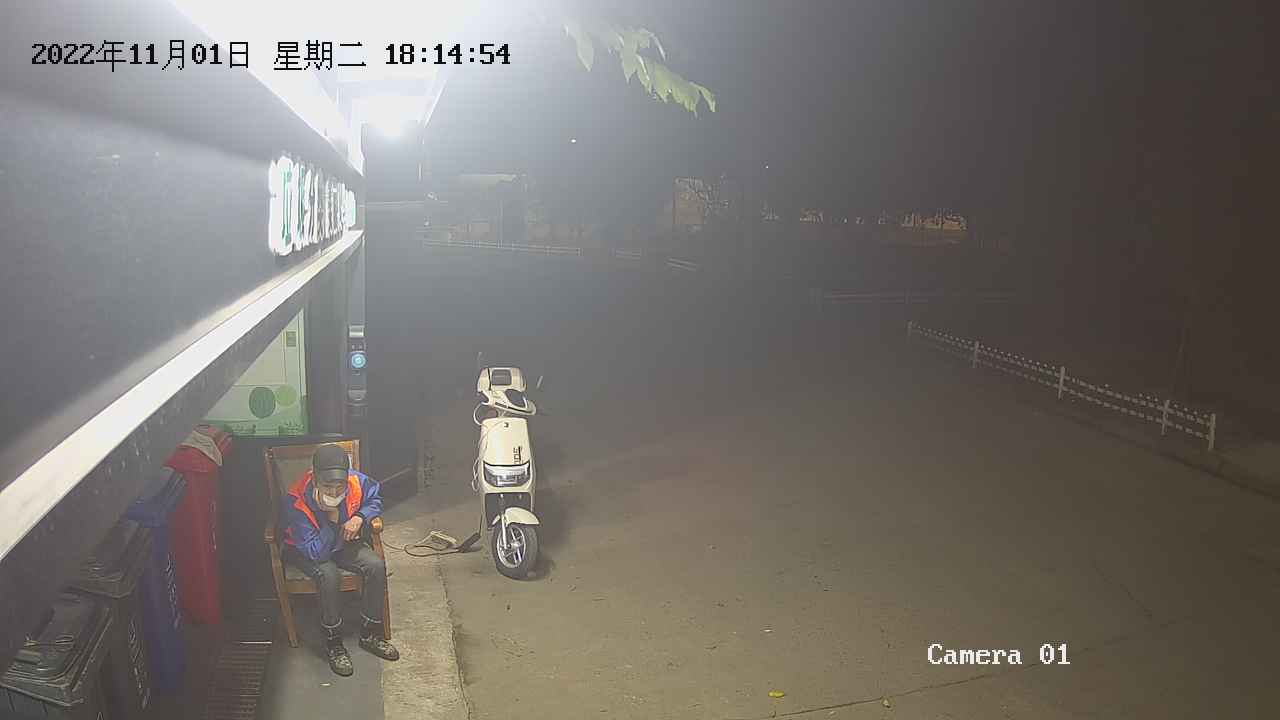worker: (272, 443, 401, 678)
